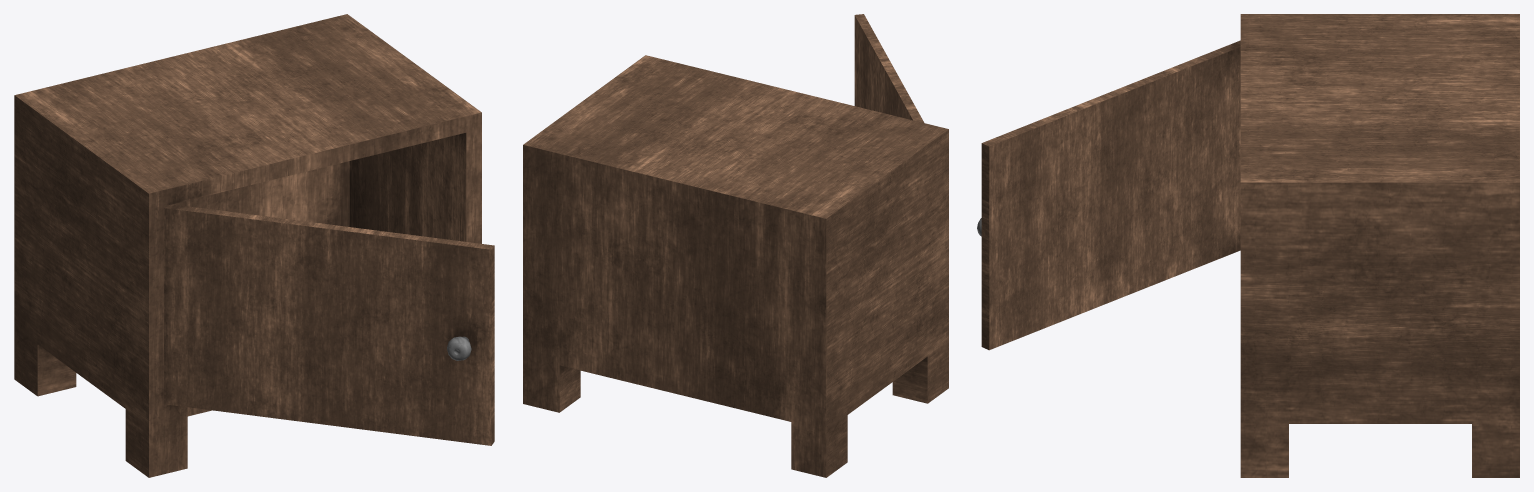
File: Cabinet.fbx
3 renders of one model, left to right at view 1: azimuth 30°, elevation 25°; view 2: azimuth 150°, elevation 25°; view 3: azimuth 270°, elevation 25°, orthographic. The views are drawn at different scales.
Parts seen in each view (by area): view 1: Cube, Cube.001; view 2: Cube, Cube.001; view 3: Cube, Cube.001.
Part boxes in pixels (x1,y1,x2,y2): Cube: (14,14,481,477); Cube.001: (164,204,494,445); Cube: (523,55,948,477); Cube.001: (854,14,924,122); Cube: (1240,14,1519,477); Cube.001: (977,40,1240,350).
Size of the model in its own units: 65.28 by 53.27 by 88.77.
3 materials, 3 textured.
